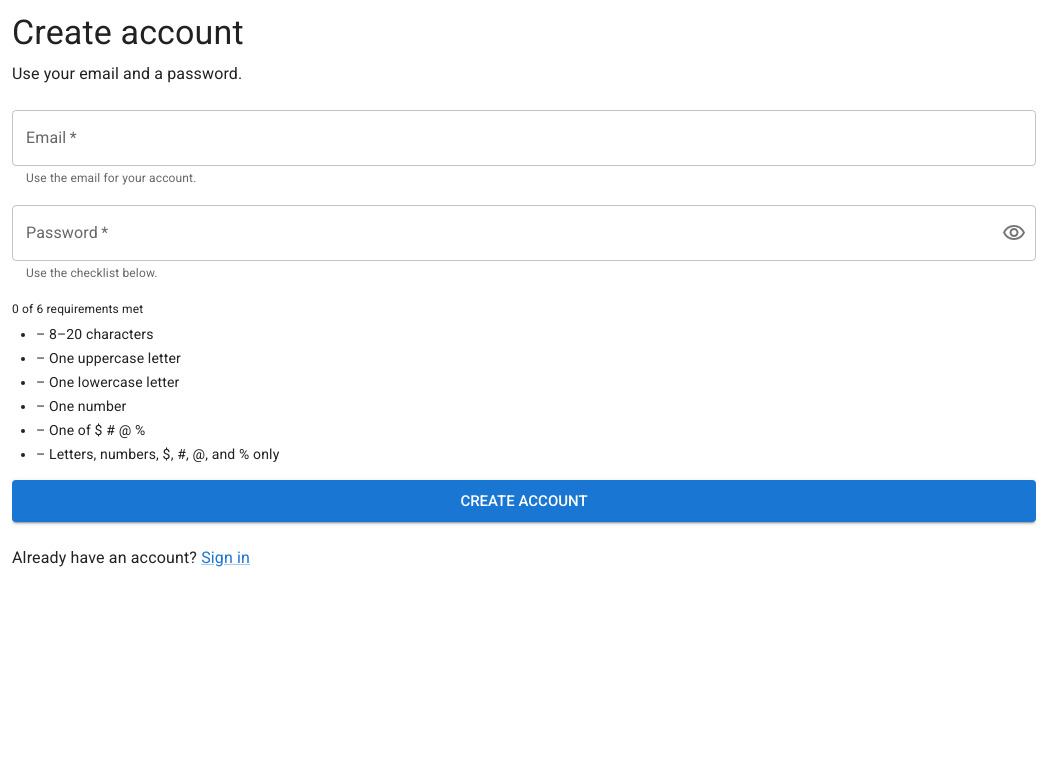
Test case: AuthForm › maps duplicate registration by code without parsing API prose
The image size is (1048, 780).
Type "person@example.com" into the field labelled "Email *" at (524, 138), box [12,110,1036,166]
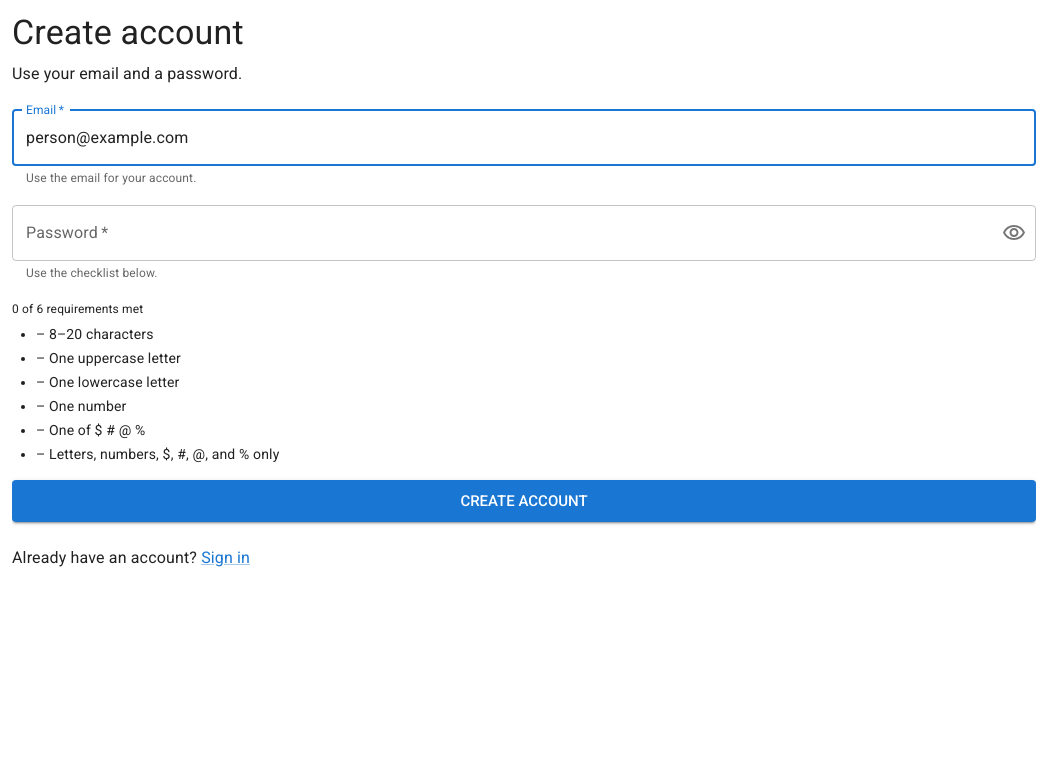
Type "TripDemo9@Qz" into the password field labelled "Password *" at (499, 233), box [12,205,986,261]
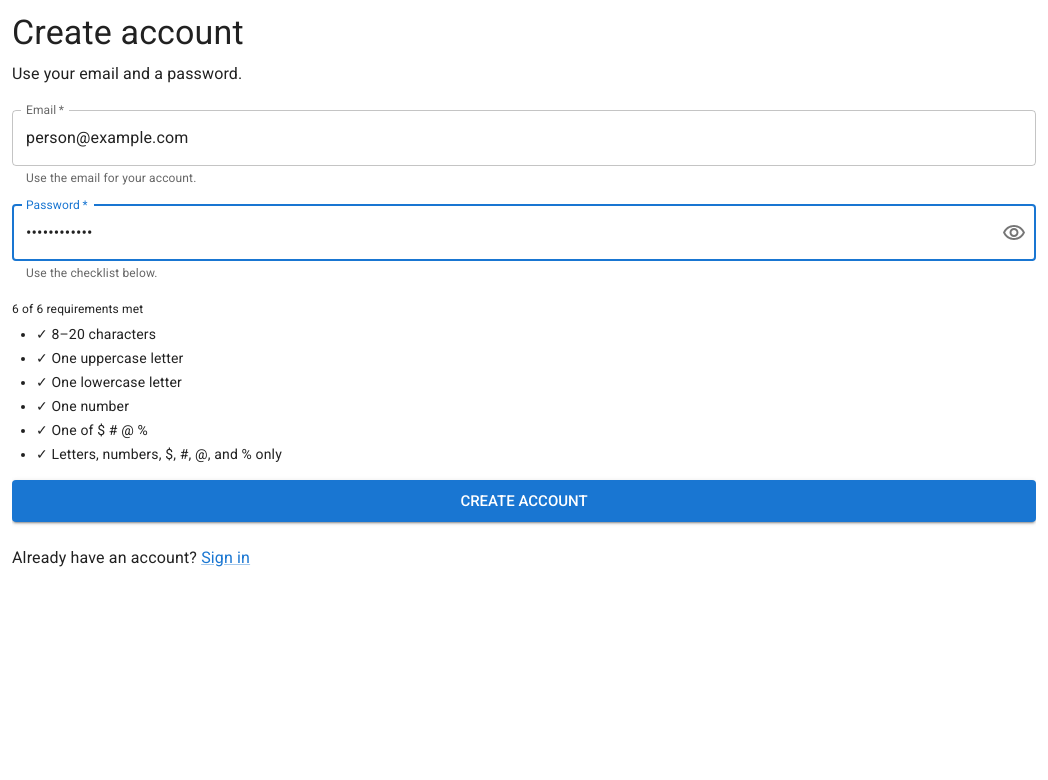
Click the button "Create account" at (524, 501), box [12,480,1036,522]
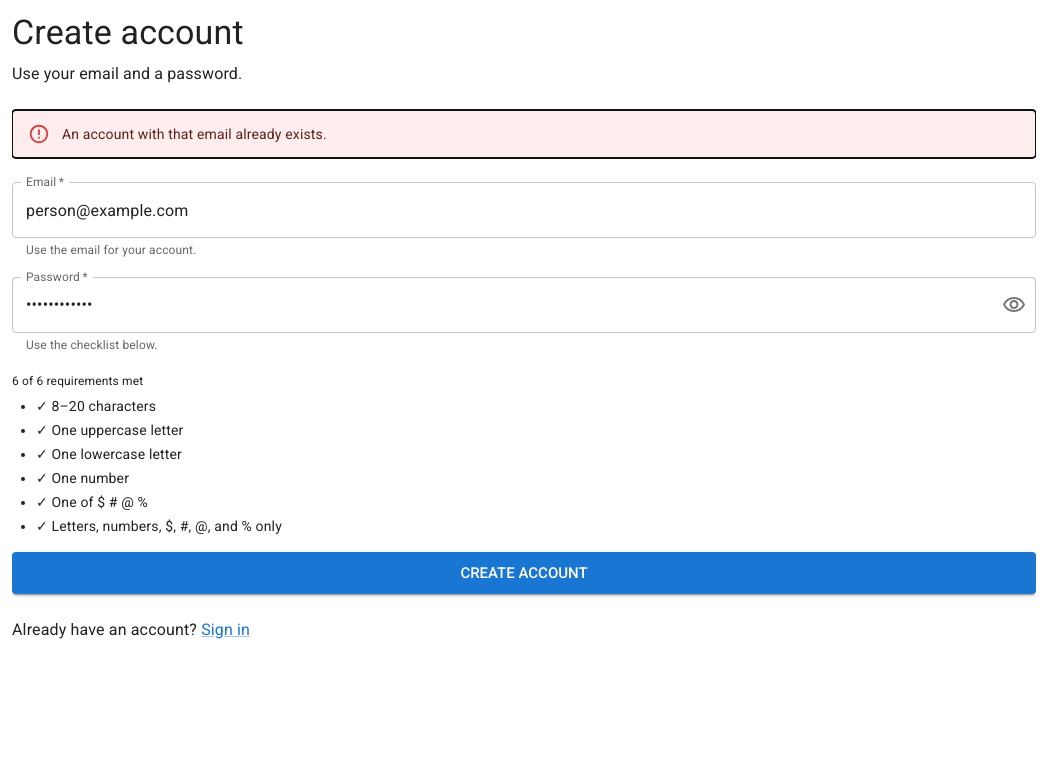
Check: the message reads "An account with that email already exists.", box [62,126,327,142]
